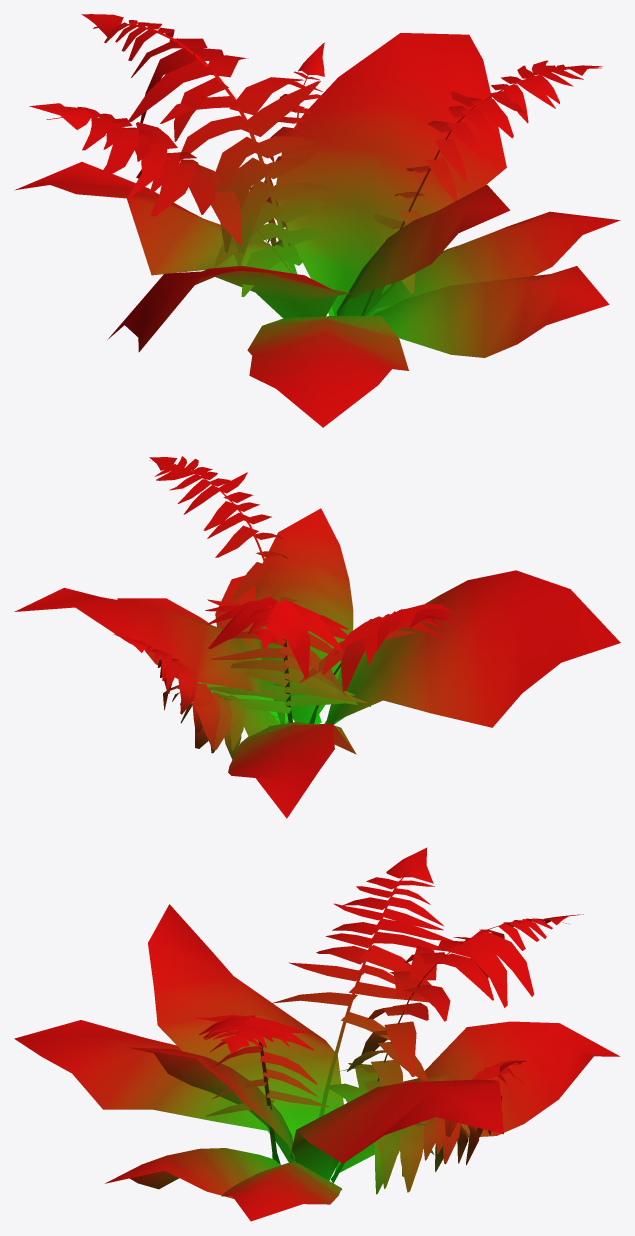
Rendered from Var1_LOD3.fbx.
The picture shows the model from 3 angles, top to bottom: view 1: azimuth 30°, elevation 25°; view 2: azimuth 150°, elevation 25°; view 3: azimuth 270°, elevation 25°; orthographic projection. The views are drawn at different scales.
Visible parts, largest first — view 1: _n780_Var1_LOD3; view 2: _n780_Var1_LOD3; view 3: _n780_Var1_LOD3.
Part boxes in pixels (<box>): _n780_Var1_LOD3: <box>14,14,620,427</box>; _n780_Var1_LOD3: <box>14,456,620,818</box>; _n780_Var1_LOD3: <box>14,847,620,1221</box>.
Bounding box in the file's own units: 49.17 × 21.57 × 50.21.
